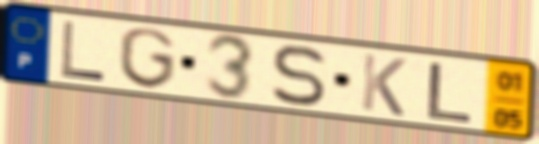3: (203, 30, 257, 106)
G: (116, 25, 178, 91)
K: (358, 51, 409, 119)
L: (424, 60, 477, 125), (58, 19, 110, 84)
S: (269, 43, 330, 109)
